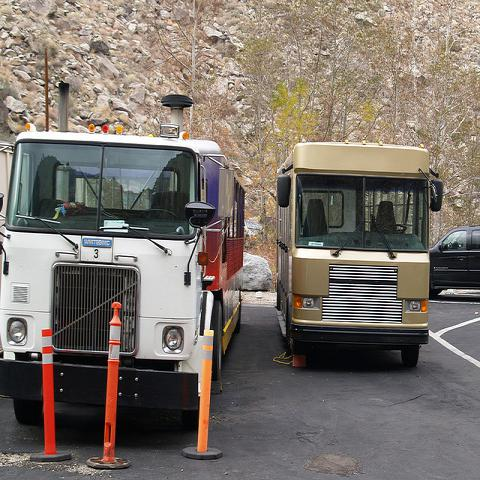bus: (278, 144, 444, 374)
truck: (1, 82, 244, 448), (429, 224, 479, 298)
